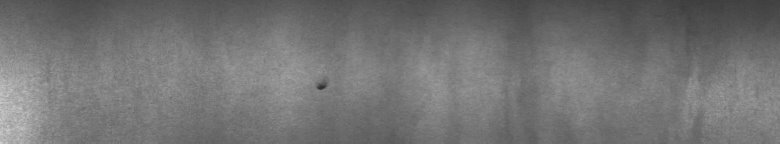fi: (312, 71, 333, 96)
